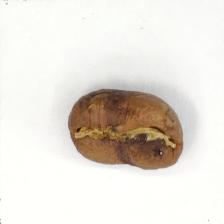NG: (112, 137, 170, 171), (103, 86, 136, 134)
